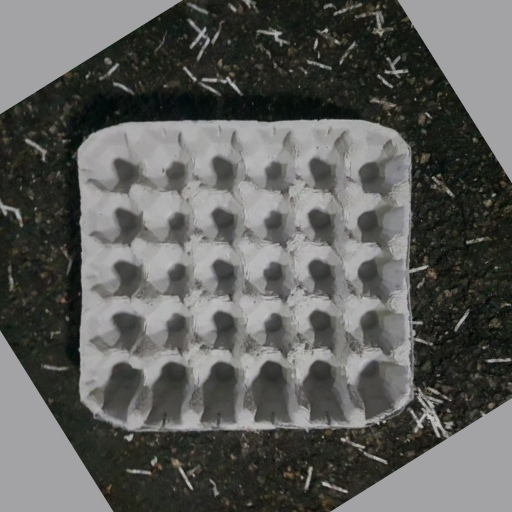Paper_0: (70, 119, 428, 437)
